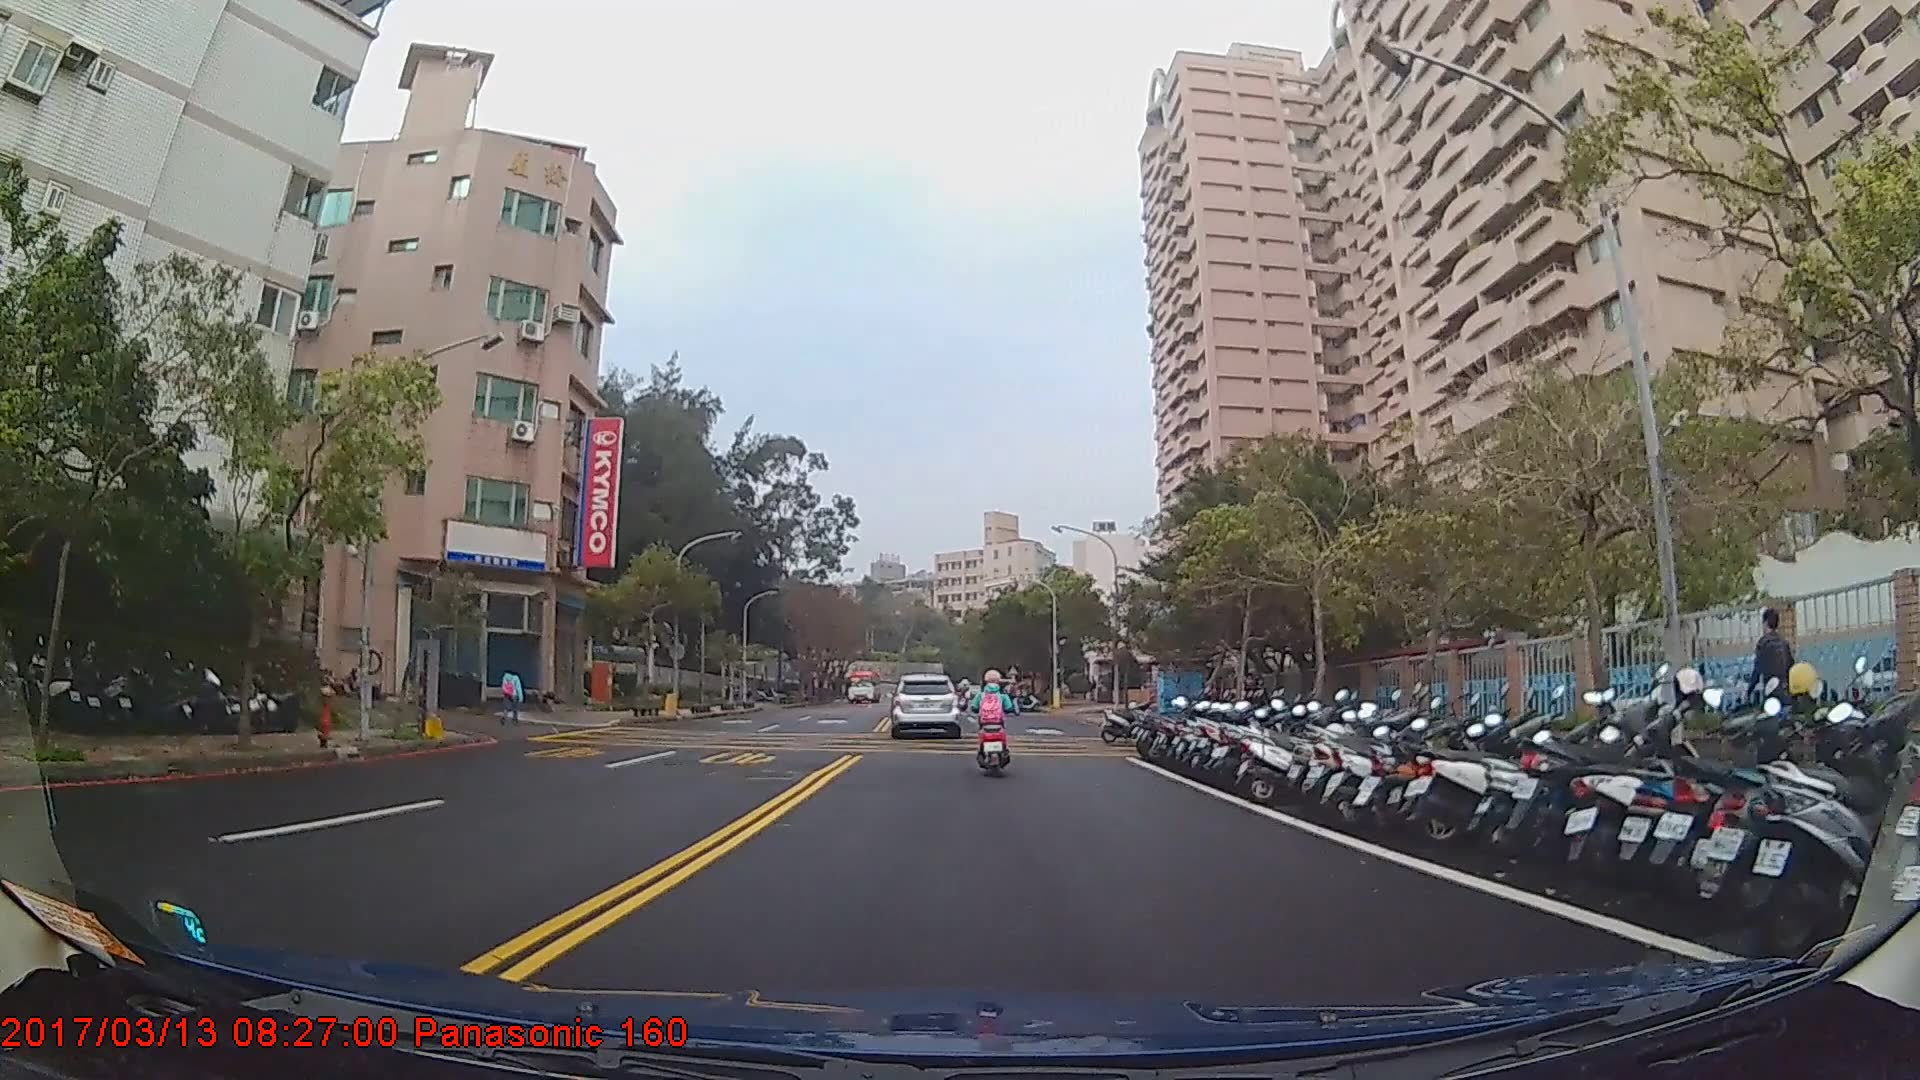pedestrian: (1747, 605, 1806, 772), (501, 662, 526, 727)
rider: (968, 664, 1017, 779)
vehicle: (890, 673, 962, 738), (843, 668, 881, 704)
